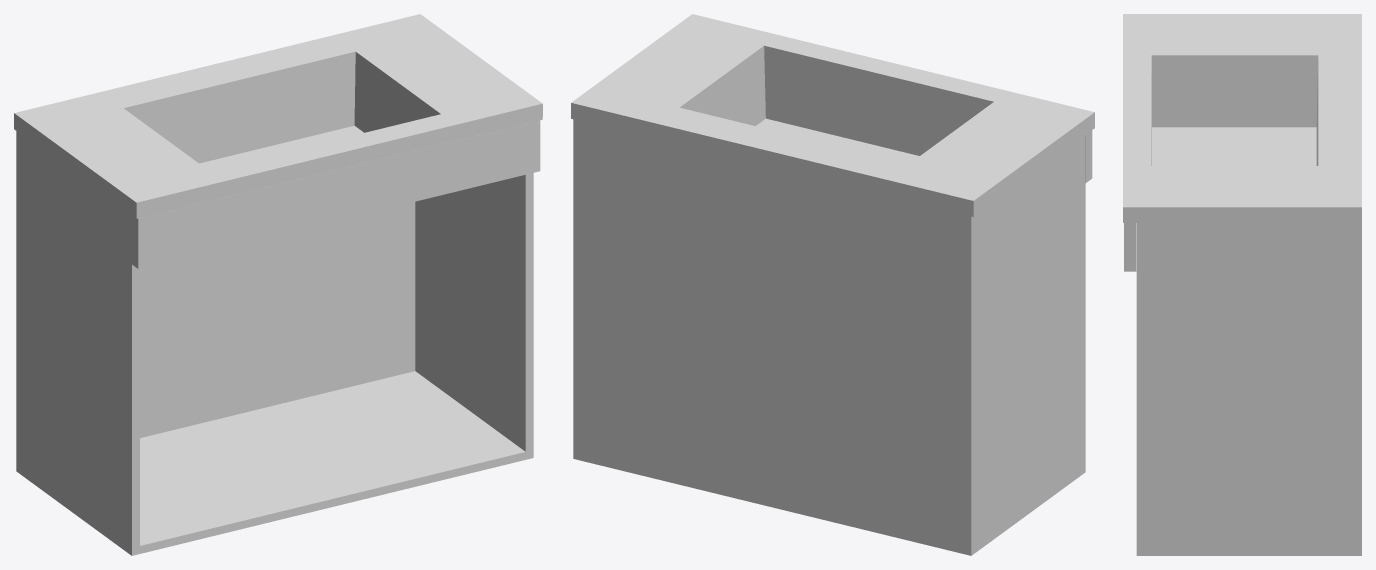
File: Bathroom_C1_09.fbx
3 views of the same model, side by side, from view 1: azimuth 30°, elevation 25°; view 2: azimuth 150°, elevation 25°; view 3: azimuth 270°, elevation 25° (orthographic). The views are drawn at different scales.
Visible parts, largest first — view 1: Bathroom_C1_09; view 2: Bathroom_C1_09; view 3: Bathroom_C1_09.
Boxes of the visible parts, box(x1,y1,x2,y2) form: Bathroom_C1_09: box(14, 14, 542, 555); Bathroom_C1_09: box(571, 14, 1094, 555); Bathroom_C1_09: box(1123, 14, 1361, 555).
Bounding box in the file's own units: 91 × 76.82 × 47.51.
